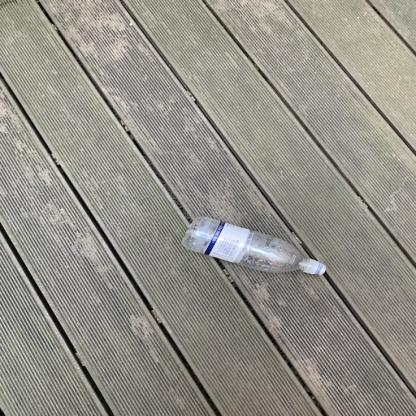trash: (178, 213, 333, 280)
